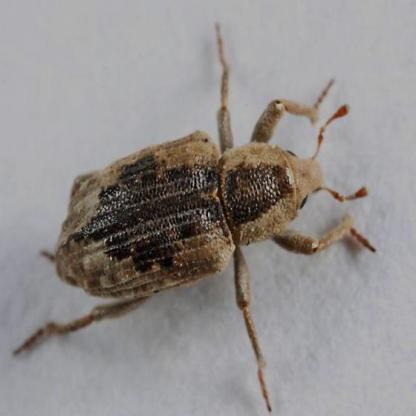rice-bug: (51, 130, 325, 306)
